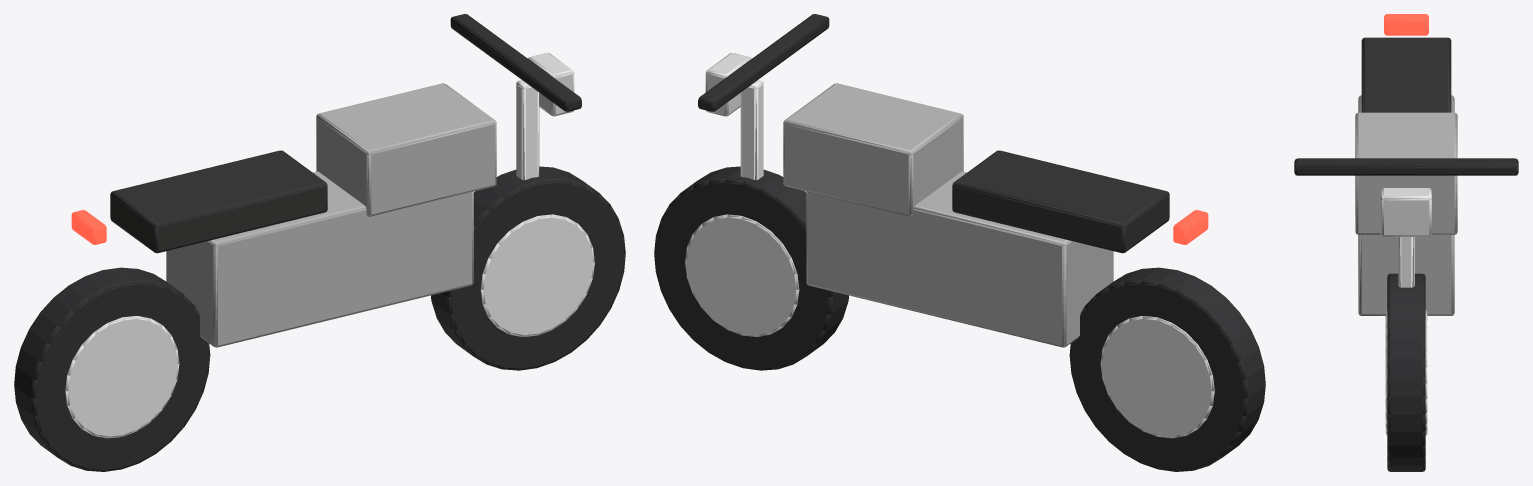
File: SM_VB_Moto_Street.fbx
3 renders of one model, left to right at view 1: azimuth 30°, elevation 25°; view 2: azimuth 150°, elevation 25°; view 3: azimuth 270°, elevation 25°, orthographic. The views are drawn at different scales.
Visible parts, largest first — view 1: SM_VB_Moto_Street; view 2: SM_VB_Moto_Street; view 3: SM_VB_Moto_Street.
Boxes of the visible parts, x1,y1,x2,y2 form: SM_VB_Moto_Street: (14,14,625,471); SM_VB_Moto_Street: (654,14,1265,471); SM_VB_Moto_Street: (1294,14,1518,471).
Size of what is drawn, in the model's own units: 2.06 by 1.02 by 0.7.
